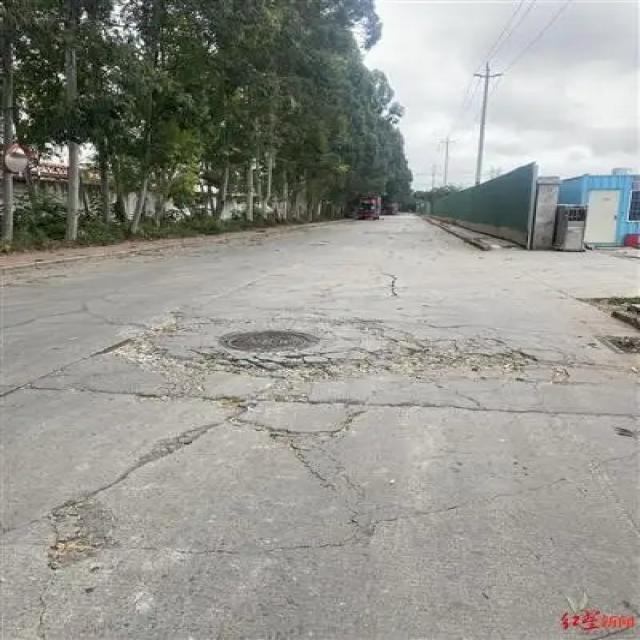Pothole: (125, 317, 534, 389)
